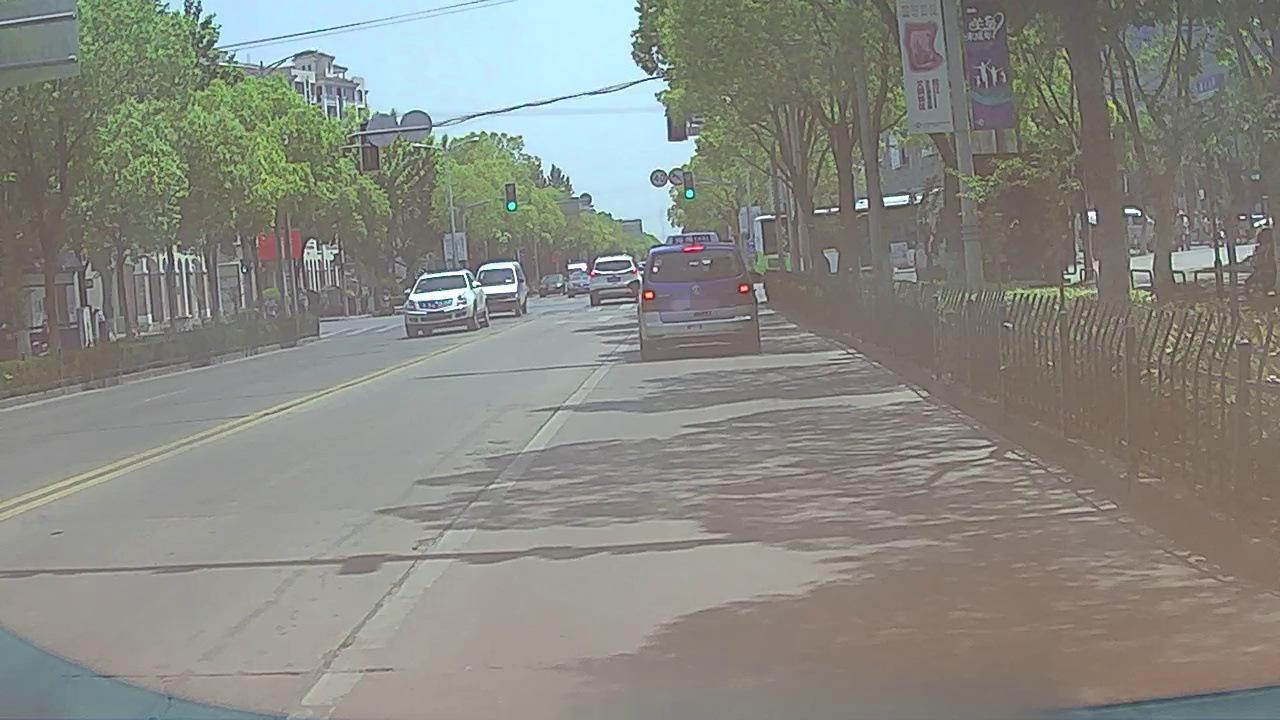traffic_light: (504, 184, 517, 212), (683, 172, 694, 201)
